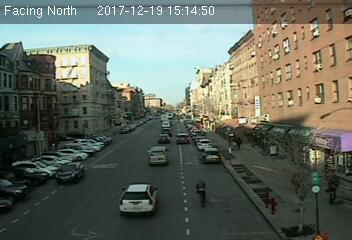bicycle: (195, 177, 209, 209)
car: (119, 182, 159, 213), (56, 161, 86, 183), (148, 145, 168, 164), (198, 147, 221, 162), (176, 133, 189, 145), (157, 133, 170, 143)
